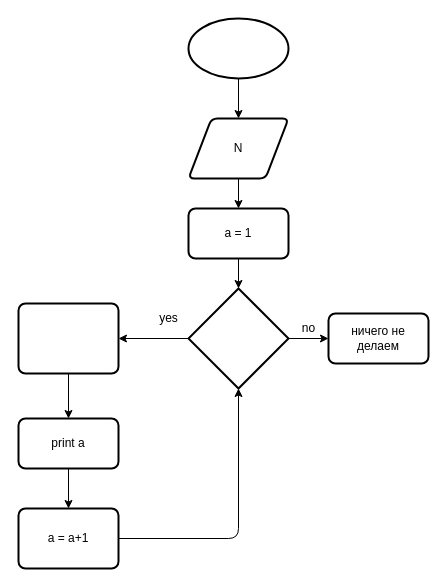
The diagram is 446 pixels wide and 586 high, and some of its shapes have lost their labels. Here are the shapes that lost their labels. From the top down, the box of each, then its label:
(187, 17, 289, 79): start
(17, 302, 119, 374): a % 2==0
(187, 287, 289, 389): a<=N
